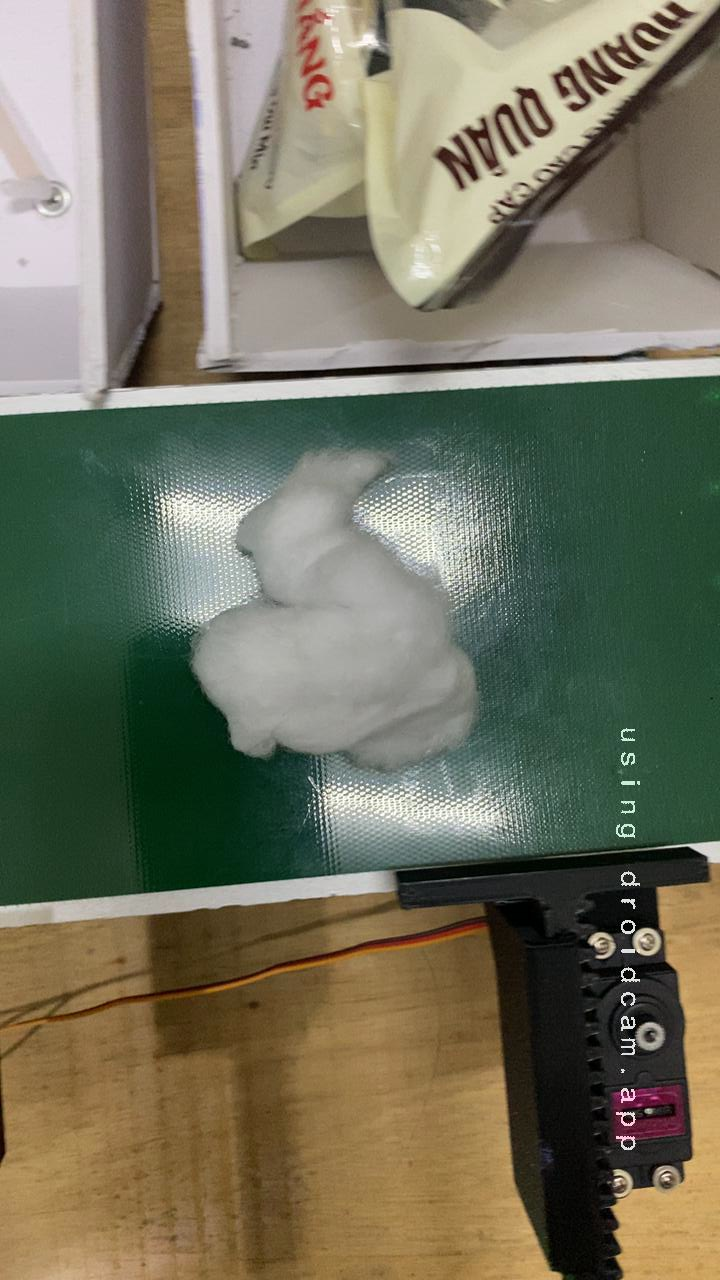cotton: (164, 420, 518, 796)
